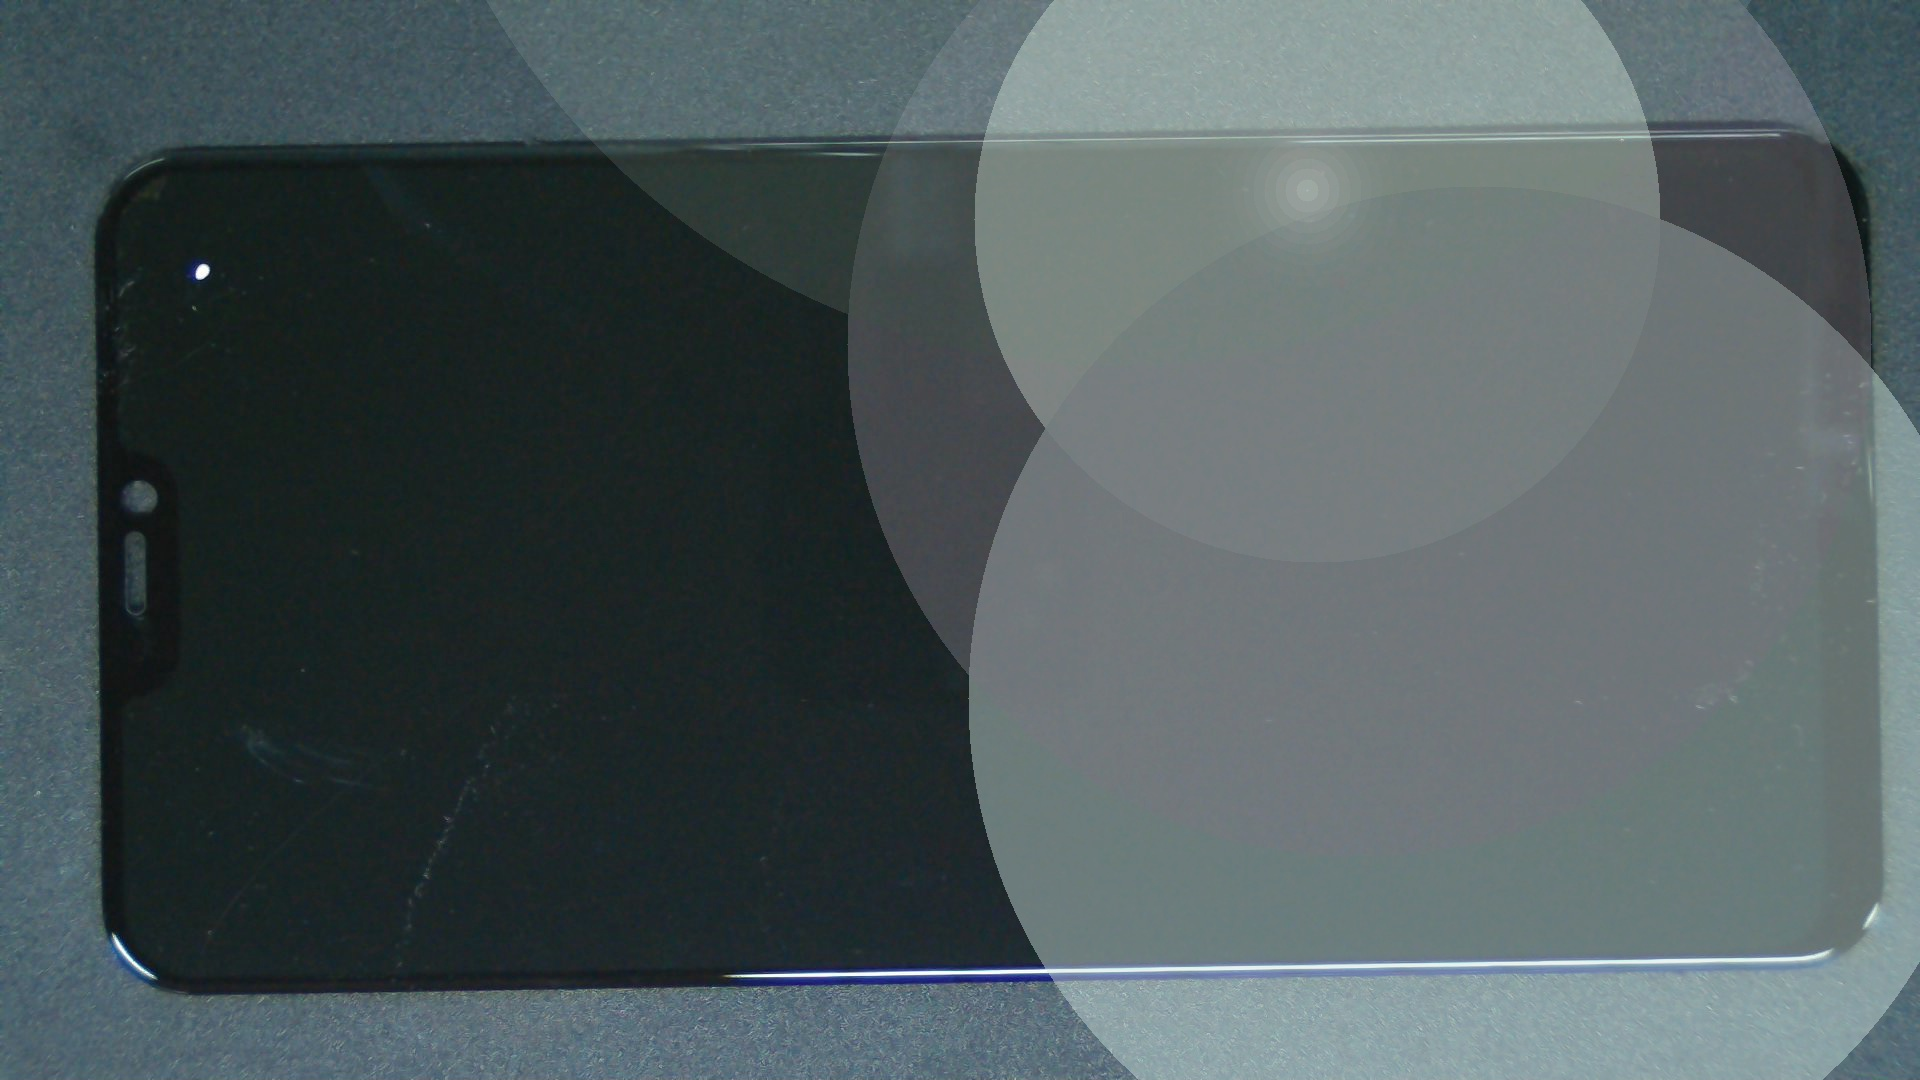oil: (103, 131, 307, 392)
